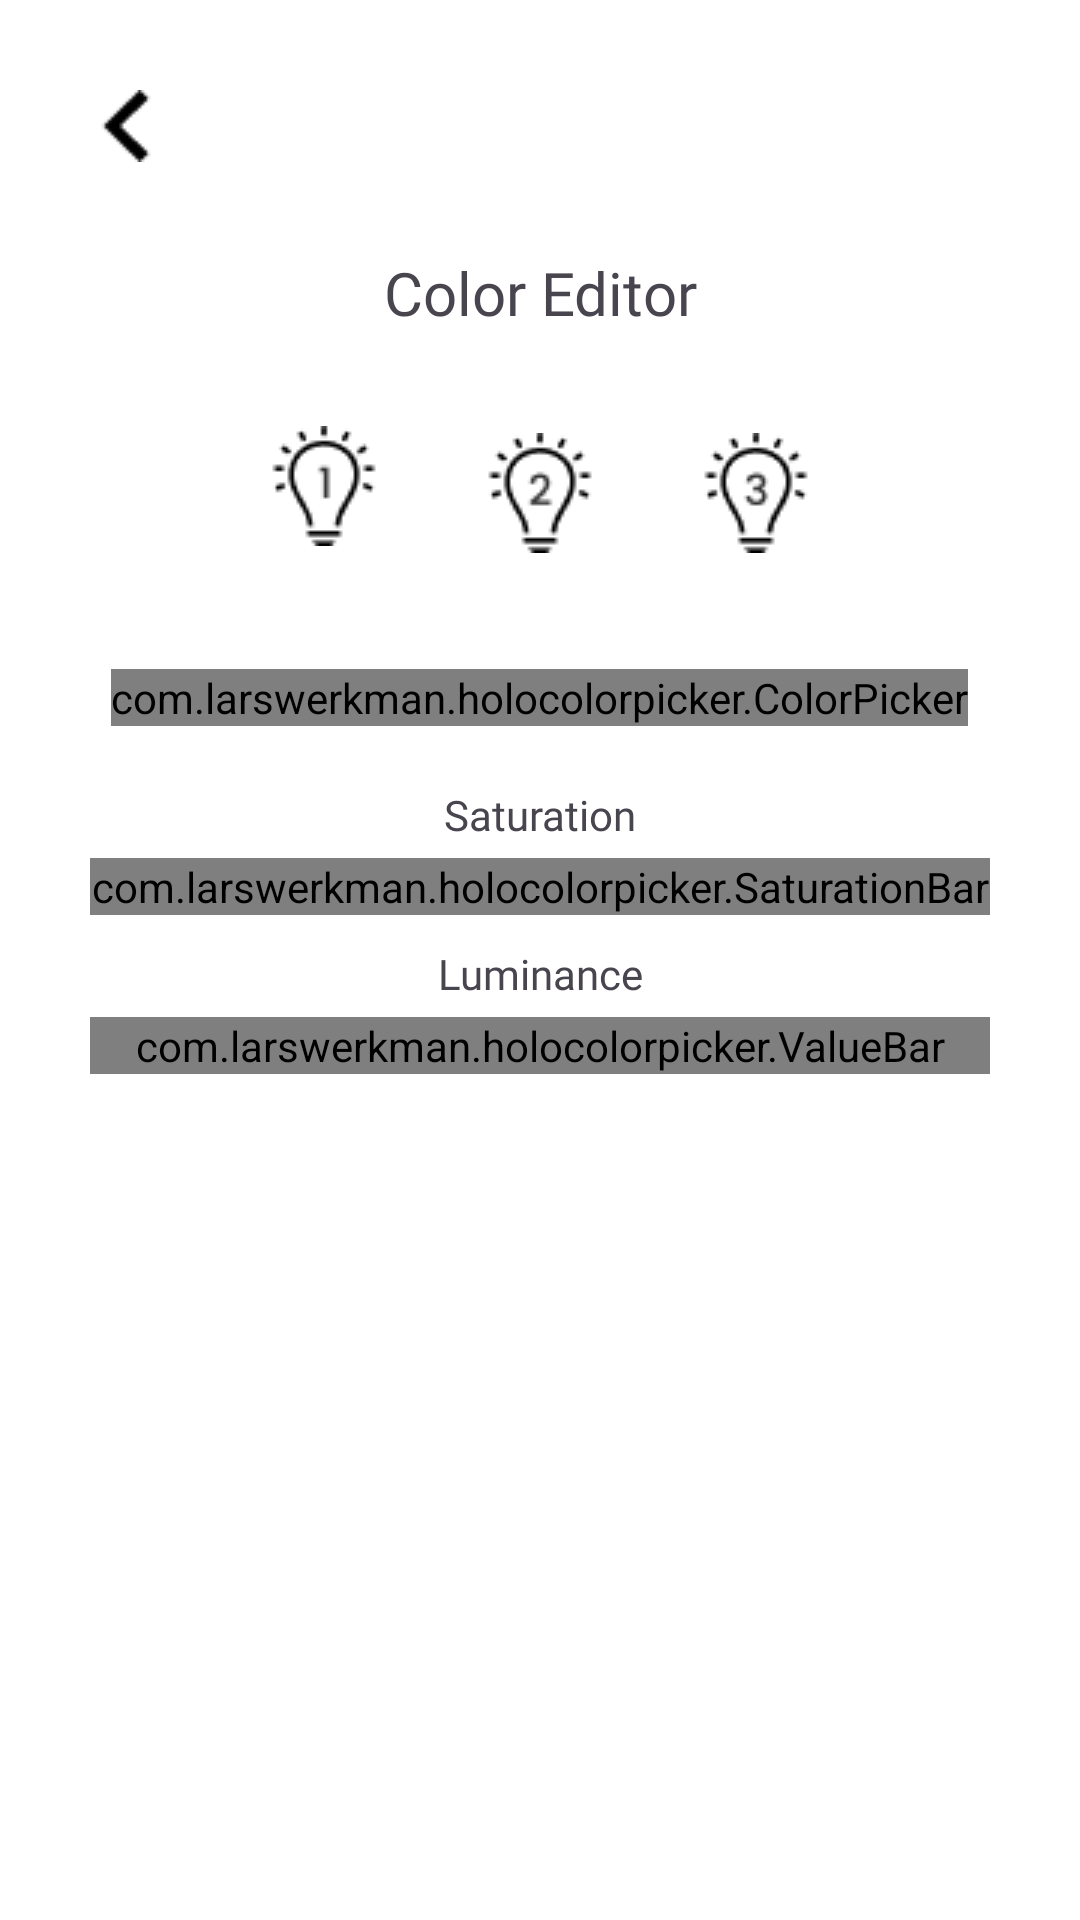

Where to tap for icons on this 1080*1920 app screen, as [x,y]:
back: [126,126]
